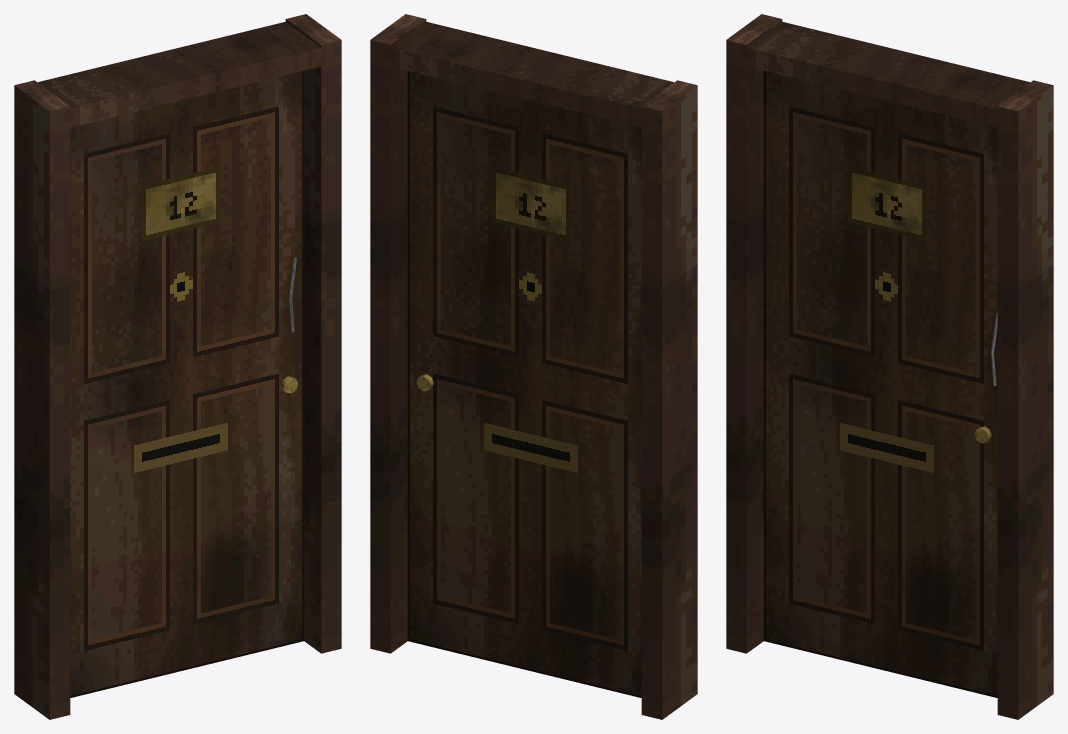
The model's file is door_flat_model.glb.
The picture shows the model from 3 angles, left to right: view 1: azimuth 30°, elevation 25°; view 2: azimuth 150°, elevation 25°; view 3: azimuth 330°, elevation 25°; orthographic projection.
Parts seen in each view (by area): view 1: door_flat_leaf, door_flat, door_flat_casing_r, door_flat_casing_top; view 2: door_flat_leaf, door_flat, door_flat_casing_r, door_flat_casing_top; view 3: door_flat_leaf, door_flat_casing_r, door_flat, door_flat_casing_top.
Boxes of the visible parts, x1=… form: door_flat_leaf: x1=70, y1=70, x2=304, y2=697; door_flat: x1=14, y1=80, x2=70, y2=719; door_flat_casing_r: x1=285, y1=14, x2=341, y2=653; door_flat_casing_top: x1=38, y1=21, x2=326, y2=128; door_flat_leaf: x1=407, y1=70, x2=641, y2=697; door_flat: x1=641, y1=80, x2=697, y2=719; door_flat_casing_r: x1=370, y1=14, x2=426, y2=653; door_flat_casing_top: x1=385, y1=21, x2=673, y2=128; door_flat_leaf: x1=763, y1=70, x2=997, y2=697; door_flat_casing_r: x1=997, y1=80, x2=1053, y2=719; door_flat: x1=726, y1=14, x2=782, y2=653; door_flat_casing_top: x1=741, y1=21, x2=1029, y2=128.
Size of the model in its own units: 1.14 by 2.27 by 0.24.
Materials: 1 (1 with a texture image).
